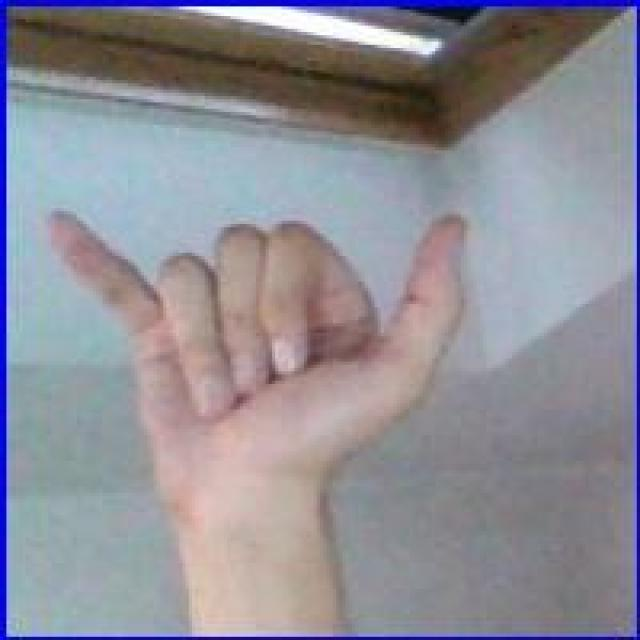Y: (35, 195, 474, 512)
